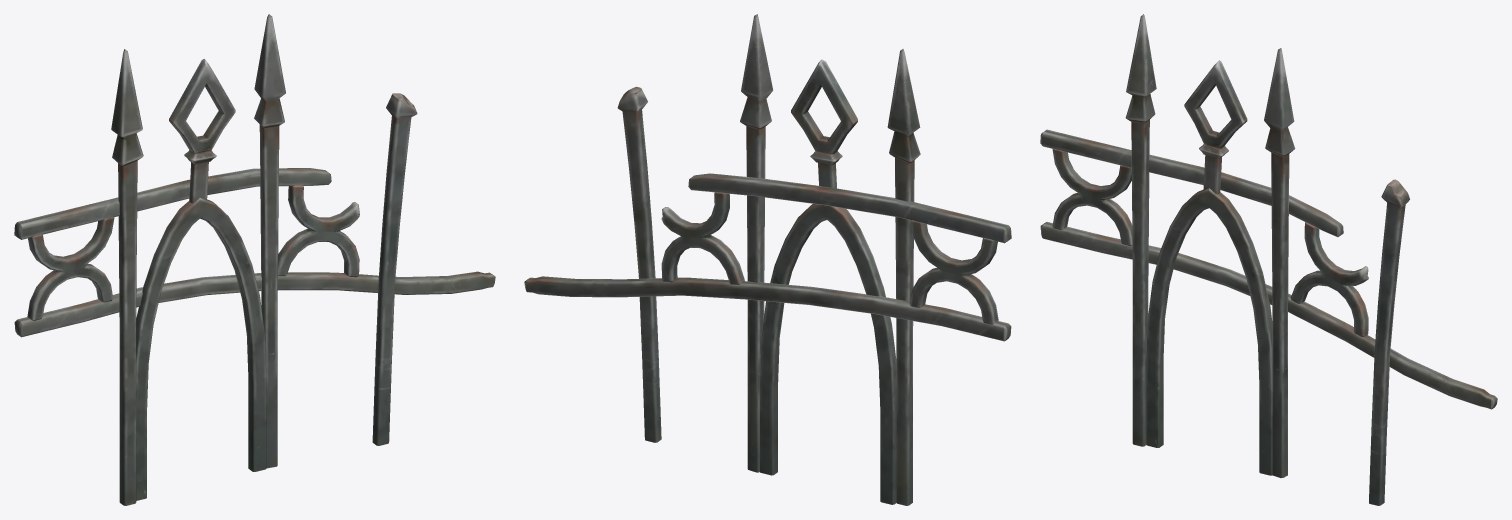
The picture shows the model from 3 angles, left to right: view 1: azimuth 30°, elevation 25°; view 2: azimuth 150°, elevation 25°; view 3: azimuth 330°, elevation 25°; orthographic projection. The views are drawn at different scales.
Parts seen in each view (by area): view 1: SM_Iron_Fence_01v1_LOD0; view 2: SM_Iron_Fence_01v1_LOD0; view 3: SM_Iron_Fence_01v1_LOD0.
Part boxes in pixels (x1,y1,x2,y2): SM_Iron_Fence_01v1_LOD0: (14, 14, 495, 505); SM_Iron_Fence_01v1_LOD0: (524, 14, 1011, 505); SM_Iron_Fence_01v1_LOD0: (1040, 14, 1497, 505).
Bounding box in the file's own units: 1.87 × 1.69 × 0.1267.
